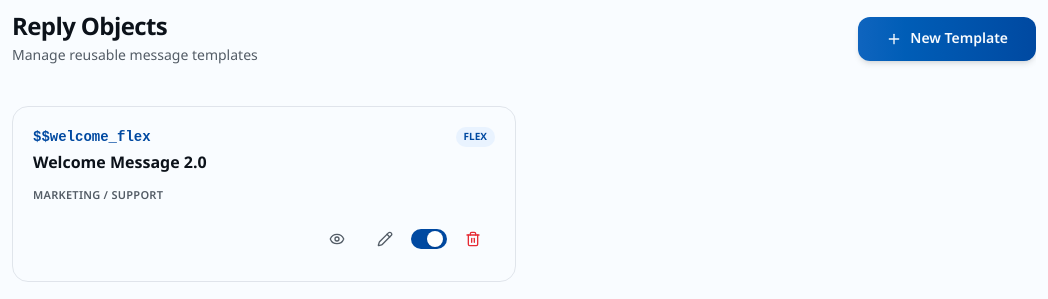
Test: ReplyObjectsClient กริด JSK › กำลัง load mutation → ปุ่ม toggle/delete disabled
This screenshot has width=1048, height=299.
Expected: the text "$$welcome_flex" is shown, top-left (33, 129), bottom-right (151, 145)
Click the switch named "ปิดใช้งาน welcome_flex": point(429, 239) top-left (411, 229), bottom-right (447, 249)
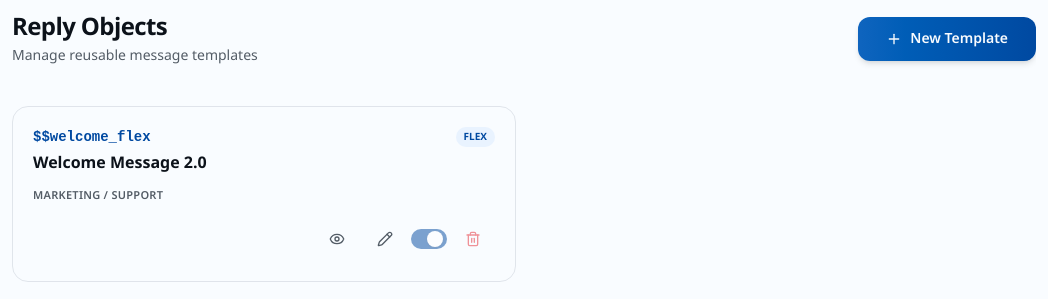
Now the switch named "ปิดใช้งาน welcome_flex" is disabled, box top-left (411, 229), bottom-right (447, 249)
Now the button named "ลบ welcome_flex" is disabled, box top-left (451, 217), bottom-right (495, 261)
